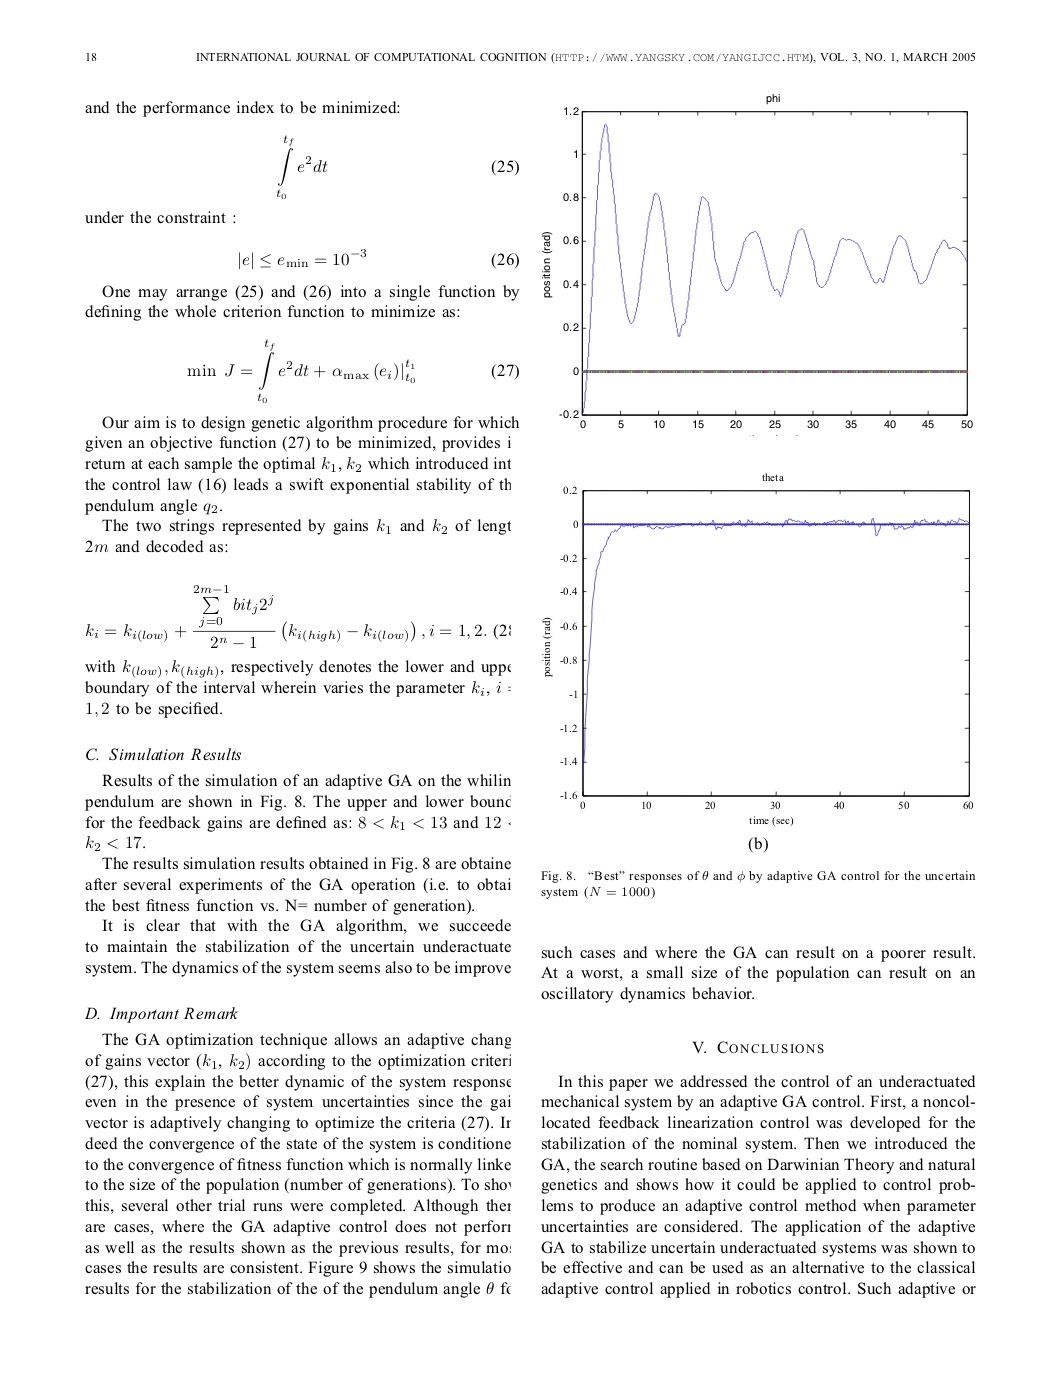figure: (542, 92, 972, 429), (542, 485, 973, 810)
formula: (86, 584, 510, 647), (187, 339, 518, 403), (276, 135, 518, 199), (239, 249, 518, 270)
